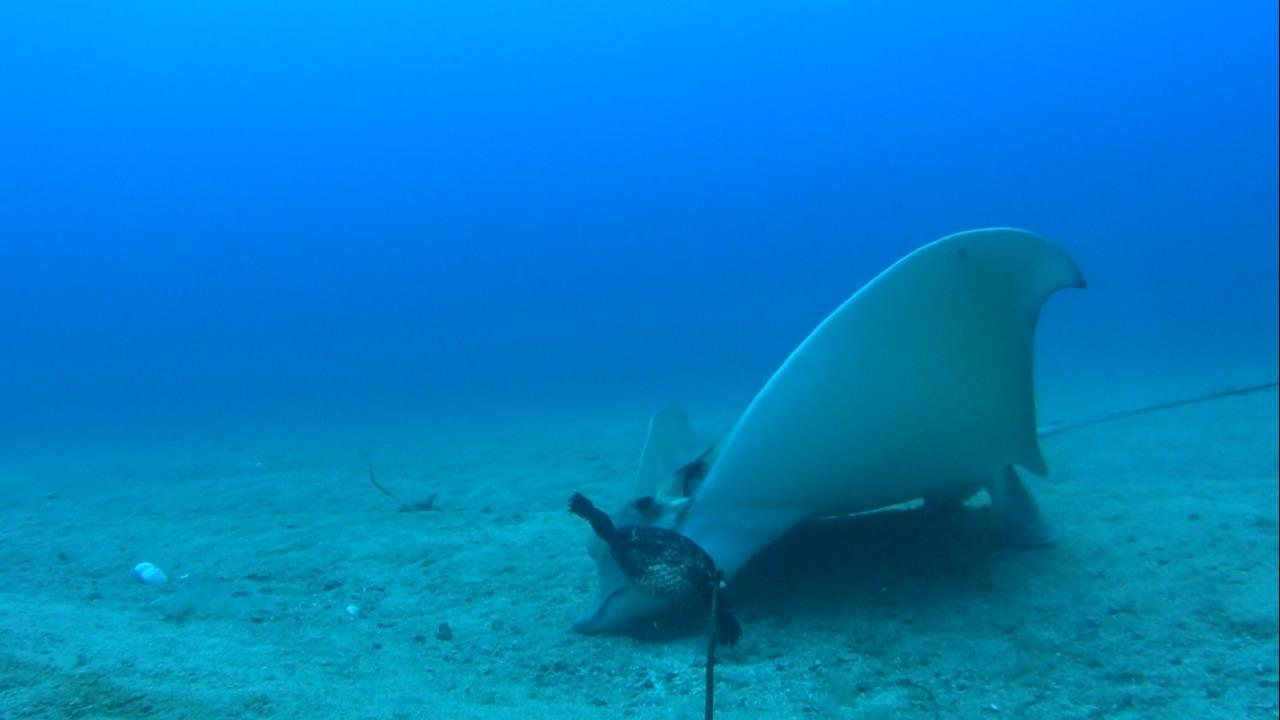myliobatis: (569, 221, 1279, 640)
